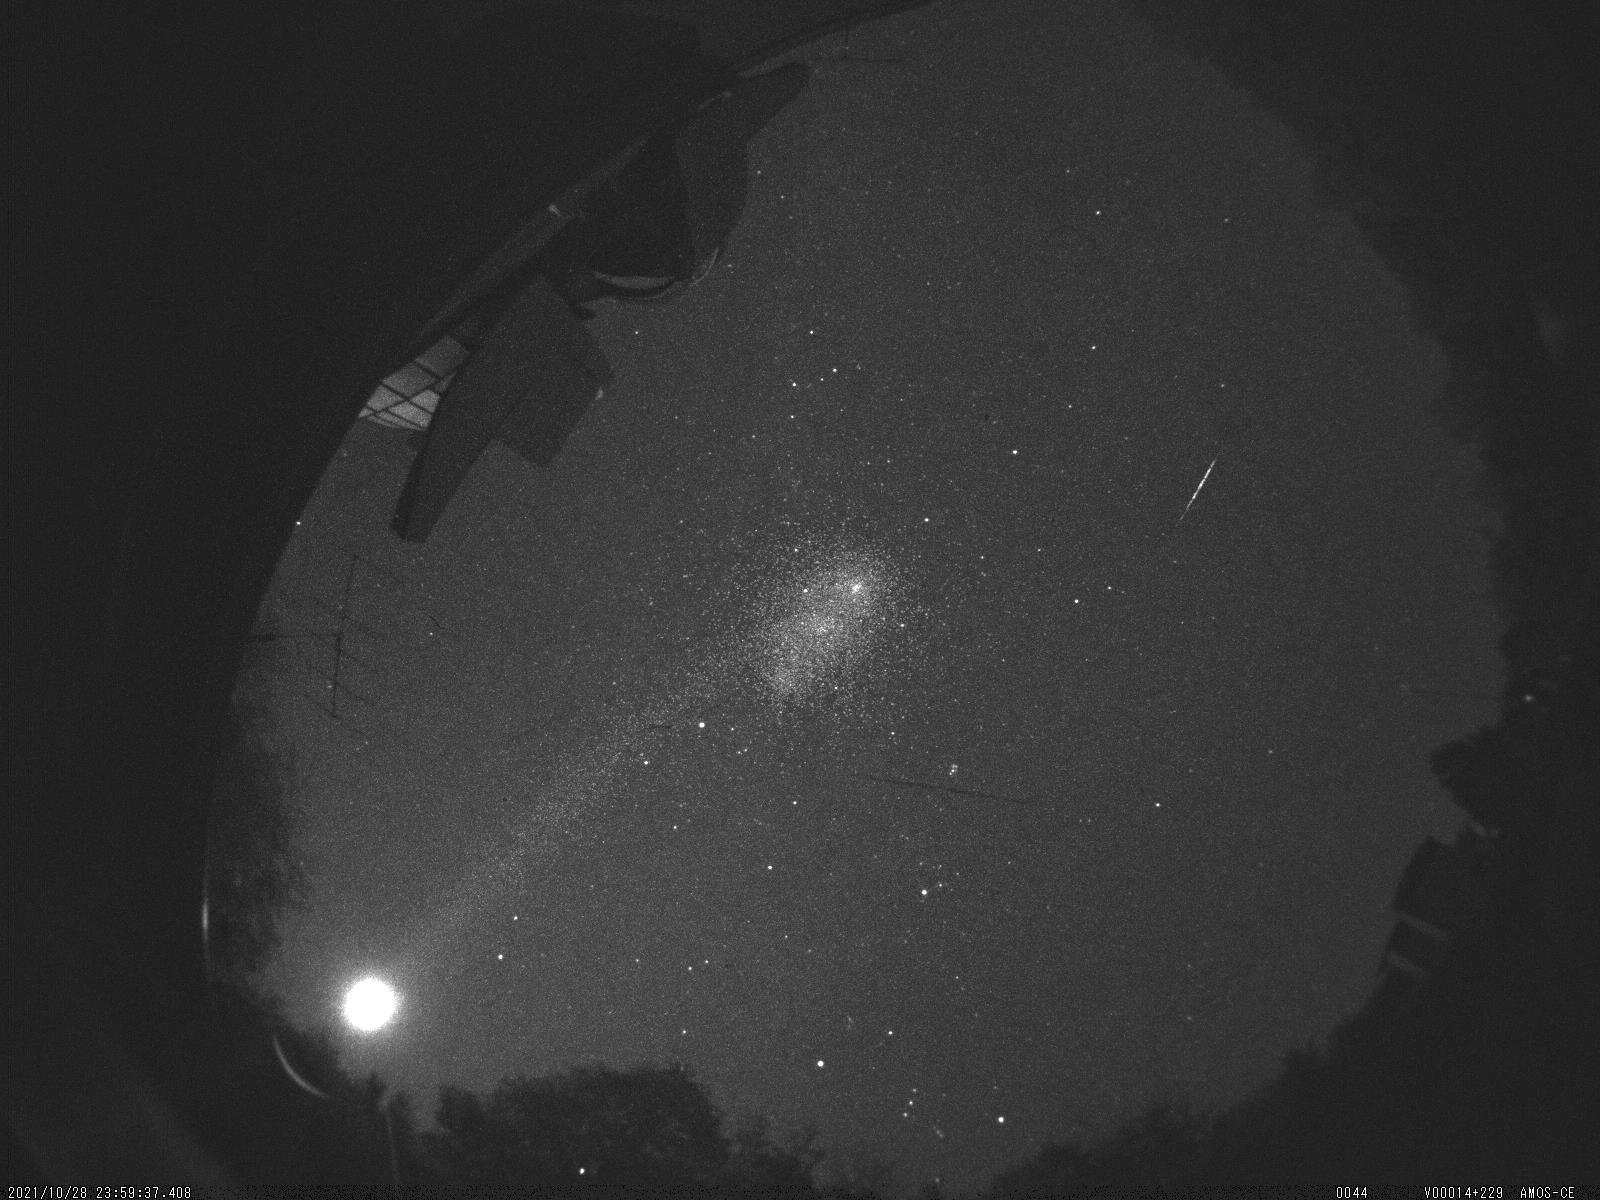Meteor: (1174, 445, 1228, 529)
